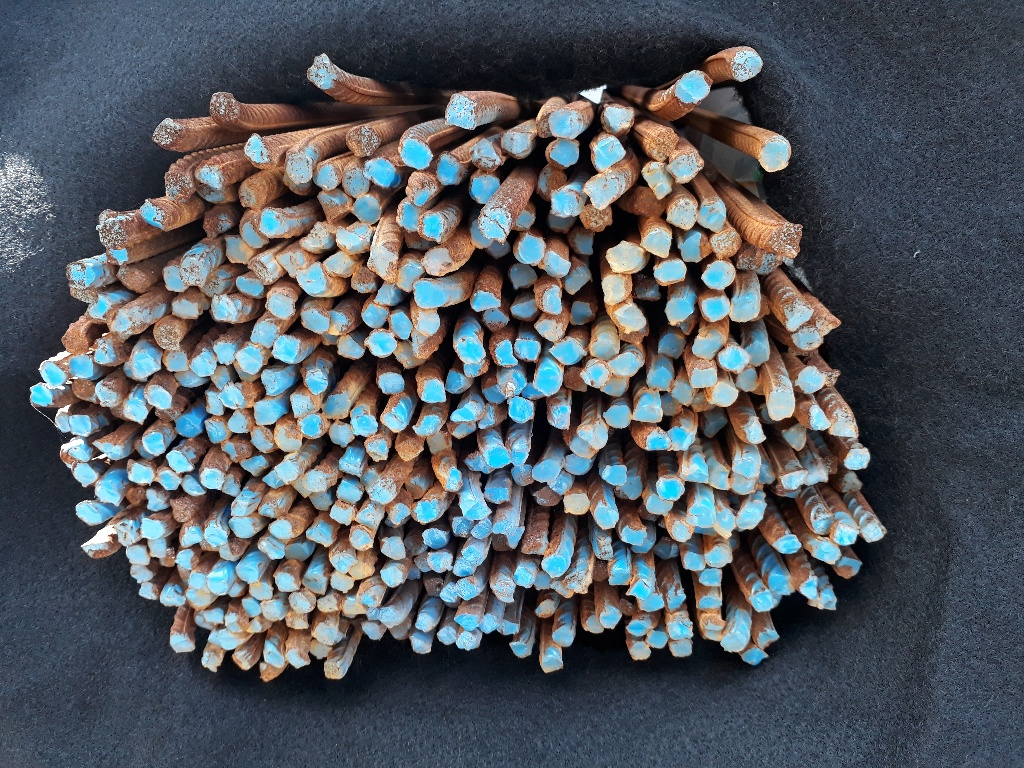dipstick: (670, 69, 715, 102), (583, 172, 621, 211), (444, 91, 479, 130), (237, 208, 271, 248), (316, 187, 353, 223), (726, 47, 764, 82), (737, 246, 784, 274), (756, 137, 791, 174), (590, 134, 627, 169), (408, 326, 445, 360), (769, 222, 802, 260), (409, 298, 442, 336), (334, 222, 373, 254), (642, 160, 673, 200), (607, 240, 644, 273), (478, 207, 510, 245), (130, 339, 162, 377), (185, 571, 217, 609), (344, 126, 380, 159), (96, 216, 132, 249), (512, 230, 544, 267), (306, 53, 337, 91), (406, 170, 438, 206), (631, 187, 667, 219), (668, 153, 706, 183), (116, 263, 154, 293), (548, 107, 581, 141), (600, 101, 634, 134), (143, 421, 176, 455), (641, 129, 676, 161), (550, 187, 585, 219), (421, 245, 456, 277), (500, 130, 537, 160), (400, 138, 433, 171), (249, 251, 282, 284), (203, 204, 234, 239), (368, 247, 399, 282), (665, 196, 695, 232), (717, 345, 753, 375), (545, 139, 582, 168), (639, 229, 676, 258), (711, 228, 743, 261), (613, 303, 647, 334), (296, 261, 327, 295), (537, 166, 567, 201), (277, 248, 312, 278), (153, 317, 183, 352), (436, 150, 465, 186), (58, 436, 94, 465), (238, 176, 269, 209), (827, 408, 860, 439), (106, 307, 139, 338), (472, 138, 506, 168), (363, 158, 397, 188), (209, 91, 239, 125), (492, 518, 526, 548), (221, 234, 256, 263), (698, 198, 726, 234), (701, 262, 737, 290), (138, 198, 170, 229), (600, 273, 632, 304), (84, 293, 116, 324), (495, 366, 527, 397), (692, 331, 725, 361), (179, 254, 208, 288), (363, 329, 397, 358), (289, 391, 323, 420), (244, 132, 272, 167), (549, 337, 584, 365), (300, 221, 331, 252), (795, 365, 826, 396), (164, 171, 196, 201), (798, 401, 830, 431), (534, 311, 566, 341), (59, 325, 91, 355), (470, 174, 503, 203), (587, 331, 620, 360), (395, 340, 428, 369), (341, 164, 369, 198), (412, 281, 447, 308), (275, 419, 302, 454), (208, 628, 253, 649), (65, 260, 95, 291), (730, 292, 761, 322), (535, 284, 565, 315), (531, 366, 562, 396), (249, 318, 280, 348), (780, 301, 812, 330), (655, 332, 687, 361), (119, 394, 148, 426), (199, 271, 236, 296), (735, 417, 768, 445), (608, 351, 642, 378), (482, 305, 516, 332), (577, 422, 611, 449), (352, 194, 382, 224), (765, 388, 795, 418), (90, 333, 120, 363), (233, 345, 264, 374), (152, 117, 180, 149), (508, 263, 540, 291), (266, 291, 298, 319), (350, 405, 378, 437), (95, 379, 127, 407), (655, 258, 688, 285), (229, 489, 262, 516), (542, 249, 572, 278), (564, 266, 592, 297), (781, 421, 809, 452), (455, 335, 486, 363), (477, 403, 508, 431), (94, 479, 125, 507), (418, 211, 445, 243), (580, 203, 612, 230), (320, 393, 352, 420), (807, 584, 839, 611), (313, 160, 339, 193), (634, 394, 663, 423), (490, 339, 518, 369), (638, 429, 673, 453), (505, 395, 535, 423), (38, 360, 68, 388), (309, 621, 344, 645), (581, 362, 612, 389), (206, 562, 232, 594), (324, 251, 357, 276), (509, 293, 538, 321), (396, 263, 424, 292), (271, 334, 300, 362), (401, 470, 430, 498), (286, 155, 313, 185), (742, 341, 772, 368), (567, 229, 597, 256), (514, 332, 541, 362), (300, 307, 330, 334), (396, 434, 426, 461), (339, 446, 366, 476), (632, 275, 663, 301), (219, 381, 250, 407), (250, 423, 276, 454), (306, 521, 337, 547), (707, 382, 739, 407), (169, 295, 201, 320), (354, 583, 386, 608), (256, 535, 289, 559), (174, 411, 202, 439), (491, 577, 520, 604), (233, 274, 267, 297), (154, 396, 188, 419), (664, 297, 694, 323), (209, 295, 239, 321), (657, 475, 687, 501), (357, 501, 387, 527), (260, 638, 286, 668), (336, 479, 366, 505), (126, 459, 156, 485), (791, 324, 822, 349), (298, 414, 329, 439), (75, 499, 106, 524), (191, 608, 226, 630), (254, 401, 286, 425), (463, 450, 495, 474), (647, 365, 674, 393), (336, 333, 363, 361), (593, 503, 621, 530), (813, 539, 841, 566), (66, 410, 93, 438), (195, 161, 224, 187), (190, 348, 216, 377), (445, 368, 474, 394), (766, 569, 795, 595), (69, 461, 98, 487), (700, 297, 730, 322), (806, 460, 831, 490), (91, 438, 125, 460), (165, 449, 196, 473), (813, 309, 840, 336), (671, 381, 698, 408), (209, 365, 236, 392), (328, 420, 355, 447), (169, 497, 196, 524), (547, 403, 573, 431), (375, 280, 403, 306), (687, 503, 715, 529), (329, 501, 357, 527), (470, 290, 503, 312), (270, 570, 303, 592), (258, 208, 283, 237), (712, 510, 737, 539), (157, 583, 186, 608), (602, 405, 632, 429), (562, 493, 593, 516), (226, 515, 258, 537), (350, 266, 377, 292), (361, 302, 387, 329), (145, 383, 172, 409), (861, 518, 888, 544), (833, 519, 859, 546), (668, 615, 695, 641), (456, 574, 482, 601), (843, 446, 871, 471), (386, 311, 411, 339), (304, 367, 329, 395), (680, 458, 708, 483), (551, 621, 576, 649), (379, 535, 407, 560), (459, 540, 488, 564), (413, 414, 443, 437), (531, 484, 561, 507), (173, 369, 209, 388), (377, 372, 408, 394), (450, 400, 484, 420), (82, 538, 116, 558), (703, 413, 729, 439), (690, 364, 717, 389), (563, 365, 588, 392), (29, 383, 56, 408), (482, 444, 509, 469), (348, 526, 375, 551), (570, 299, 594, 327), (363, 436, 391, 460), (511, 462, 539, 486), (541, 555, 569, 579), (289, 589, 317, 613), (301, 468, 329, 492), (234, 559, 262, 583), (168, 632, 196, 656), (102, 243, 131, 266), (731, 455, 760, 478), (653, 537, 682, 560), (592, 533, 615, 562), (425, 551, 454, 574), (412, 500, 441, 523), (549, 578, 579, 600), (259, 496, 289, 518), (752, 590, 783, 611), (162, 348, 188, 373), (667, 426, 693, 451), (116, 518, 142, 543), (737, 367, 760, 395), (380, 410, 408, 433), (475, 612, 503, 635), (367, 481, 395, 504), (269, 517, 297, 540), (124, 544, 152, 567), (154, 467, 182, 490), (601, 376, 630, 398), (463, 498, 492, 520), (328, 552, 357, 574), (450, 557, 480, 578), (256, 661, 286, 682), (511, 205, 537, 229), (421, 378, 445, 404), (204, 418, 230, 442), (198, 468, 224, 492), (213, 339, 236, 366), (779, 468, 806, 491), (836, 557, 863, 580), (619, 524, 646, 547), (537, 650, 564, 673), (468, 516, 495, 539), (144, 487, 171, 510), (532, 460, 560, 482), (799, 574, 821, 602), (328, 572, 356, 594), (260, 599, 288, 621), (644, 493, 673, 514), (494, 617, 523, 638), (220, 538, 249, 559), (444, 419, 476, 438), (719, 631, 749, 651), (739, 645, 769, 665), (204, 522, 229, 546), (219, 472, 243, 497), (327, 310, 350, 336), (69, 355, 95, 378), (620, 475, 643, 501), (812, 512, 835, 538), (450, 516, 476, 539), (705, 545, 732, 567), (379, 565, 406, 587), (284, 609, 311, 631), (284, 541, 311, 563), (634, 594, 665, 613), (259, 366, 280, 394), (601, 465, 629, 486), (453, 612, 481, 633), (307, 638, 335, 659), (774, 533, 803, 553), (521, 537, 550, 557), (482, 382, 506, 406), (228, 409, 252, 433), (707, 467, 731, 491), (387, 503, 411, 527), (275, 460, 299, 484), (141, 517, 165, 541), (697, 567, 722, 590), (567, 569, 590, 594), (670, 516, 692, 542), (627, 640, 653, 662), (636, 502, 662, 524), (441, 468, 463, 494), (456, 629, 482, 651), (179, 473, 205, 495), (422, 527, 449, 548), (699, 614, 730, 632), (532, 569, 556, 592), (403, 533, 427, 556), (377, 606, 401, 629), (566, 453, 591, 475), (286, 648, 311, 670), (179, 522, 201, 547), (426, 432, 452, 453), (665, 585, 686, 611), (681, 551, 708, 571), (341, 594, 368, 614), (309, 491, 336, 511), (758, 460, 777, 488), (317, 591, 340, 614), (755, 629, 779, 651), (840, 472, 864, 494), (68, 286, 99, 303), (737, 506, 758, 531), (303, 573, 328, 594), (483, 485, 512, 503), (522, 382, 552, 399), (439, 581, 462, 603), (463, 360, 491, 378), (413, 552, 437, 573), (175, 548, 199, 569), (53, 408, 74, 432), (669, 638, 694, 658), (626, 619, 653, 637), (409, 633, 432, 654), (360, 621, 383, 642), (231, 649, 254, 670), (505, 444, 529, 464), (626, 579, 651, 598), (224, 612, 249, 631), (646, 630, 668, 651), (600, 605, 621, 627), (423, 577, 446, 597), (129, 564, 156, 581), (249, 582, 273, 601), (144, 538, 168, 557), (584, 613, 605, 634), (514, 566, 534, 588), (137, 581, 160, 600), (698, 596, 723, 613), (608, 568, 630, 587), (414, 612, 436, 631), (822, 453, 840, 476), (534, 597, 553, 618), (201, 651, 220, 672), (438, 623, 456, 645), (243, 598, 262, 618), (323, 661, 345, 678), (228, 579, 247, 597), (592, 561, 609, 581), (247, 616, 265, 634), (509, 641, 527, 658), (361, 467, 379, 484), (702, 628, 724, 641)
